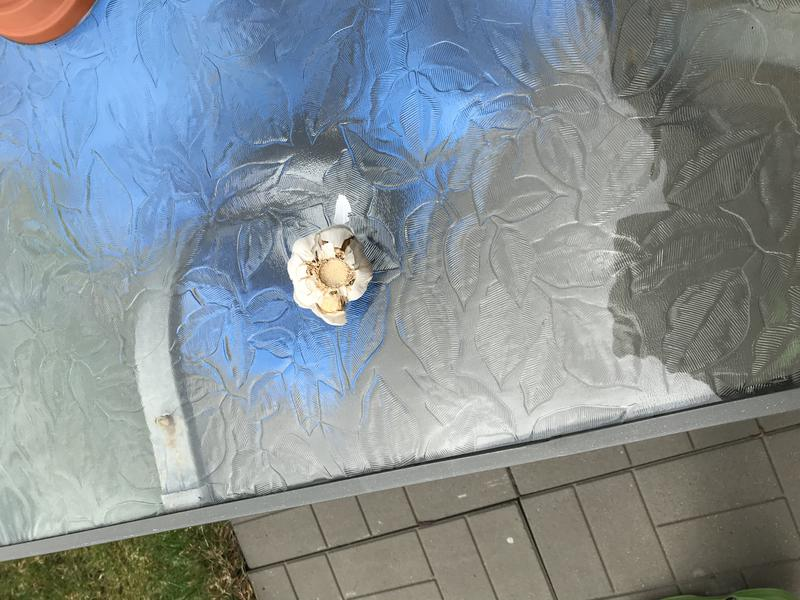garlic: (282, 220, 378, 333)
